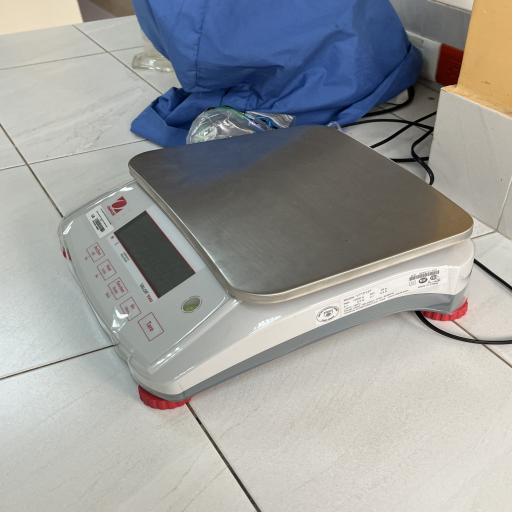Balanza_Granataria_Ohaus: (45, 117, 491, 415)
